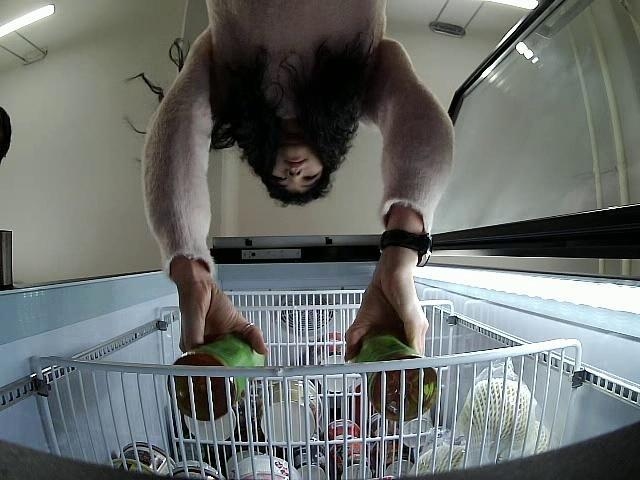19_17cha: (349, 333, 440, 422), (168, 334, 258, 422)
